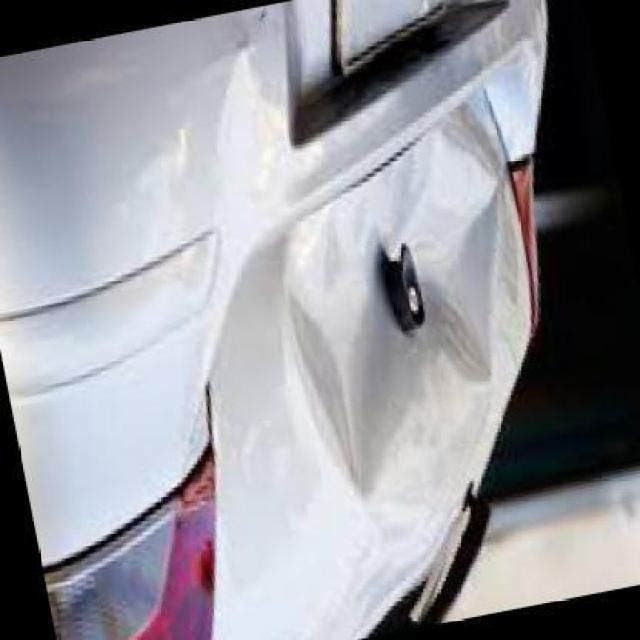dent: (282, 106, 532, 640)
